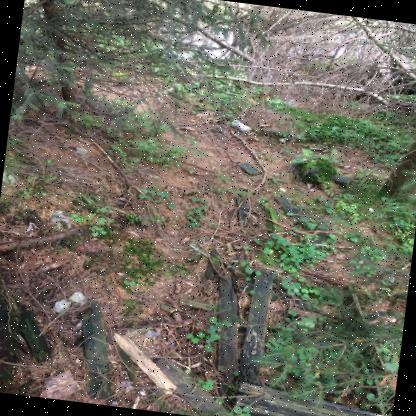Drink can: (231, 120, 253, 134)
Unlabeled litter: (189, 242, 210, 258)
